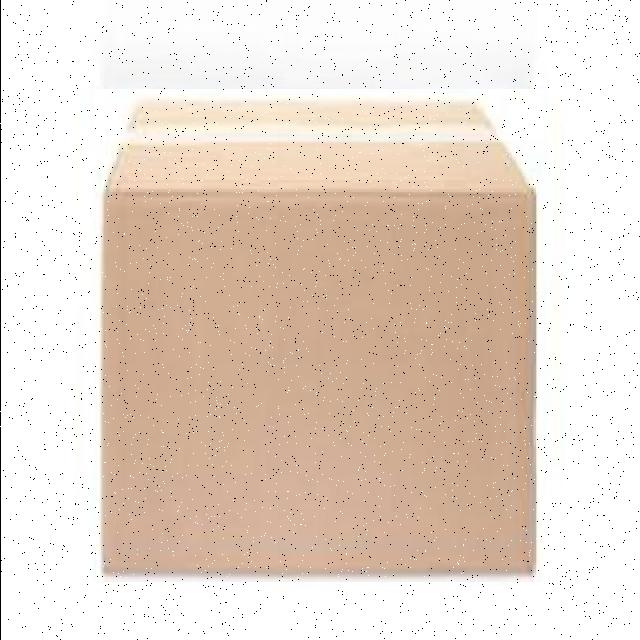normal: (92, 89, 542, 582)
